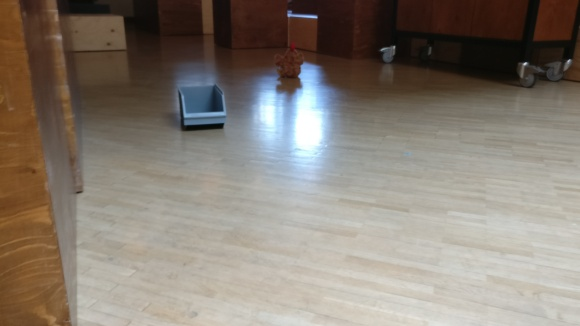chicken: (273, 41, 304, 80)
tray: (176, 81, 228, 131)
